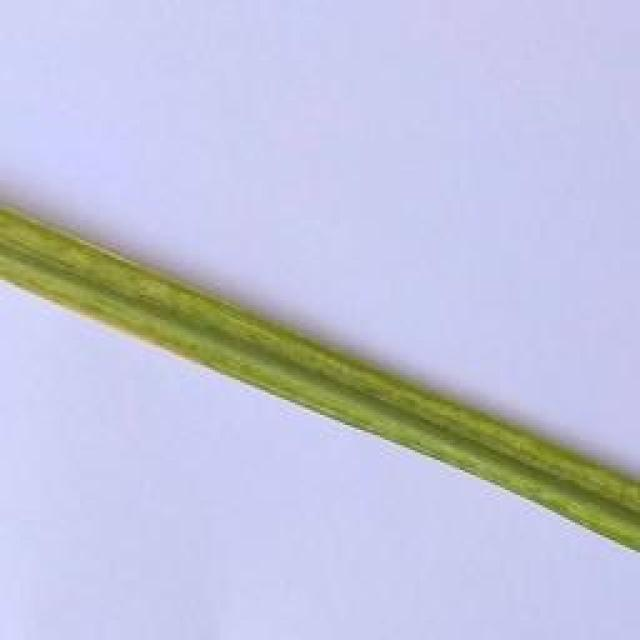Healthy-Plant: (0, 202, 640, 554)
